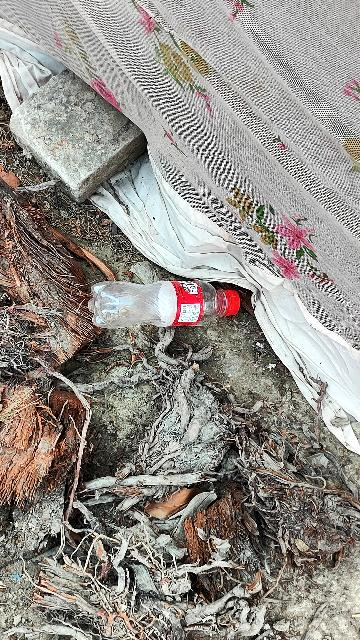bottle: (82, 275, 260, 343)
